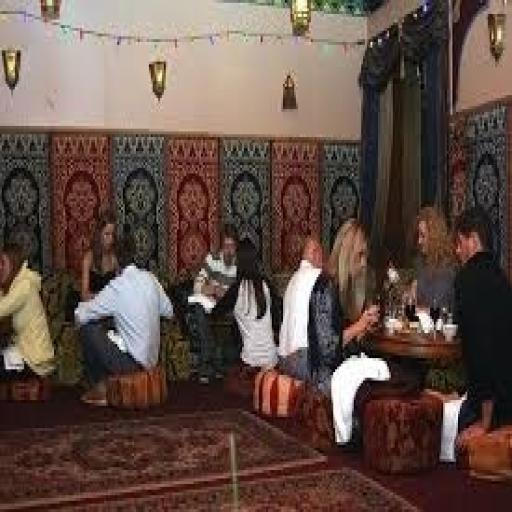sitting: (0, 198, 510, 458), (305, 212, 391, 448), (73, 235, 175, 406), (181, 221, 242, 383), (0, 229, 60, 389)
